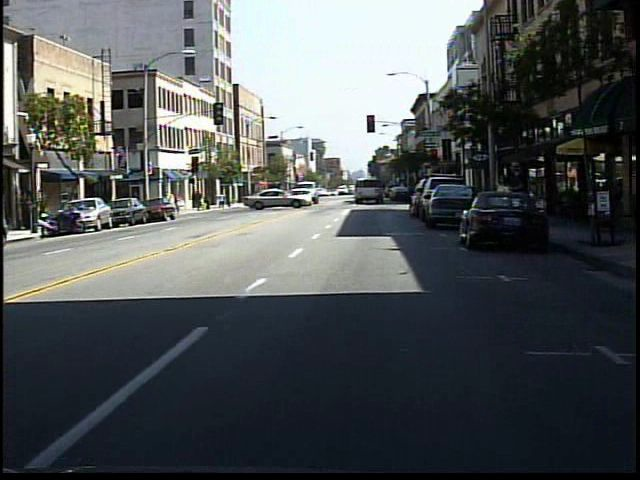person: (510, 156, 536, 237), (499, 170, 518, 231)
